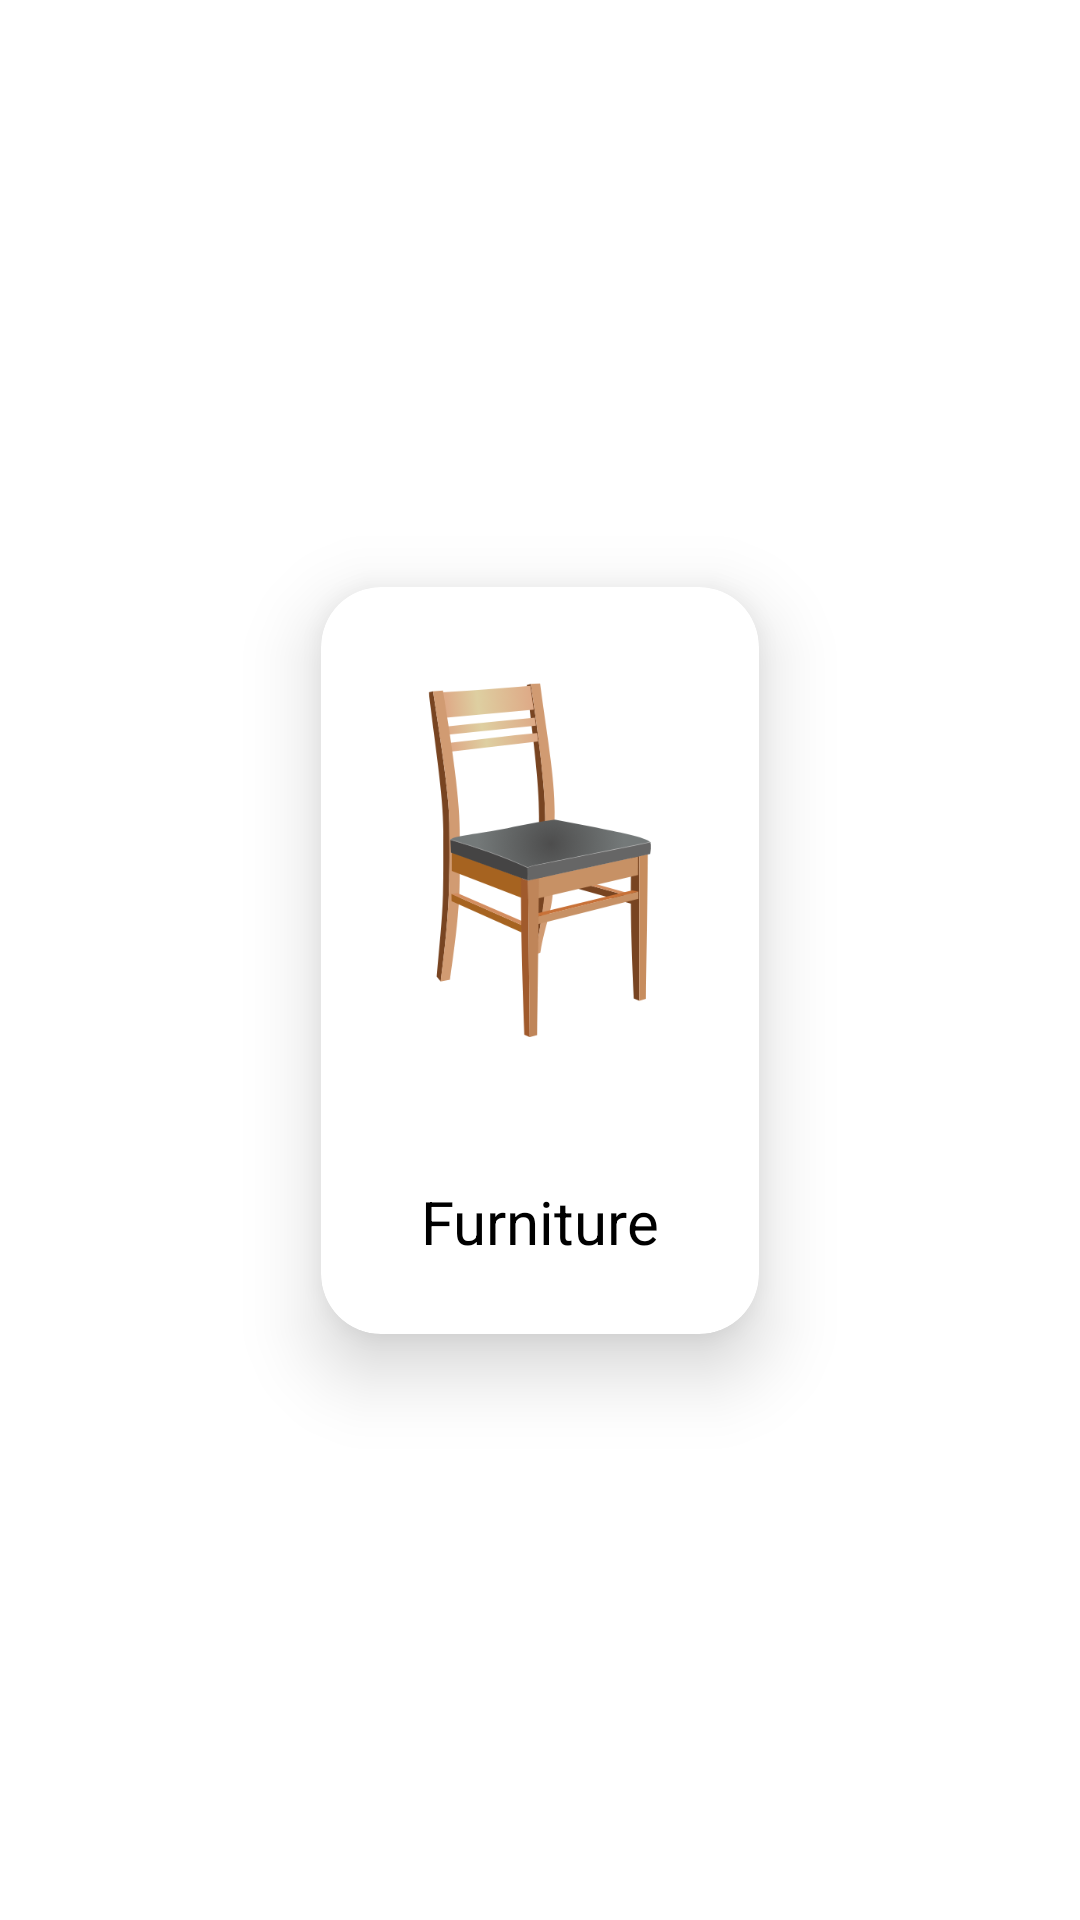

Screen size 1080*1920. Icon name, then its box in pixels as {"x1": x1, "y1": y1, "x2": x2, "y2": y2}:
chair: {"x1": 429, "y1": 683, "x2": 651, "y2": 1037}
